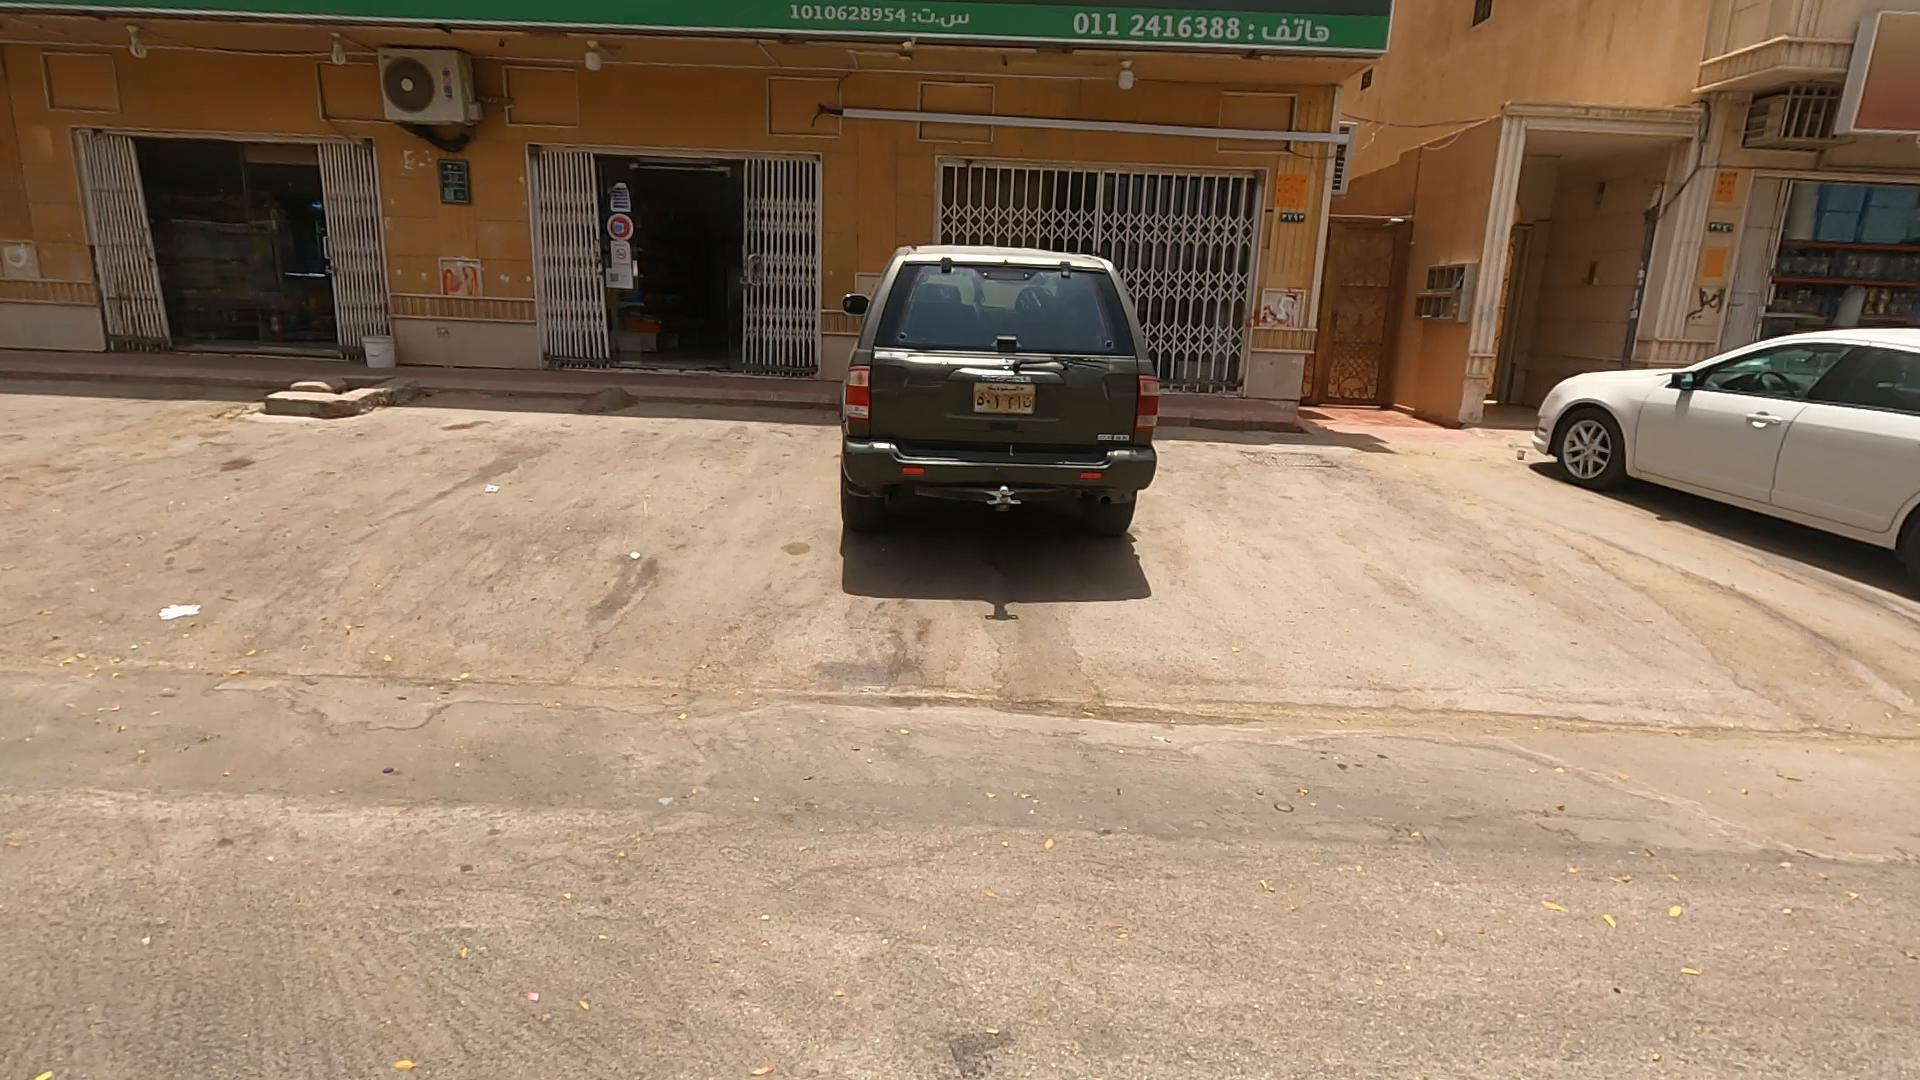GARBAGE: (102, 318, 545, 481)
